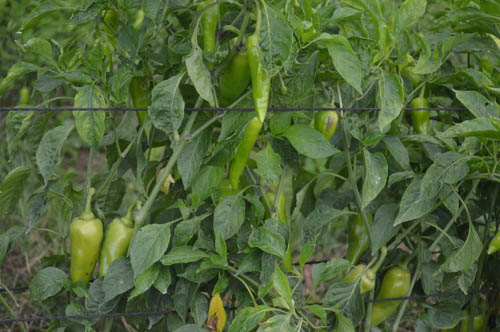ChiliPepper: (56, 212, 105, 289), (367, 257, 414, 332), (240, 32, 276, 125), (263, 186, 299, 276), (99, 211, 135, 292), (340, 210, 381, 278), (124, 71, 157, 149), (216, 50, 256, 113), (190, 2, 222, 72), (306, 97, 344, 147), (406, 93, 436, 138), (457, 303, 488, 332)
